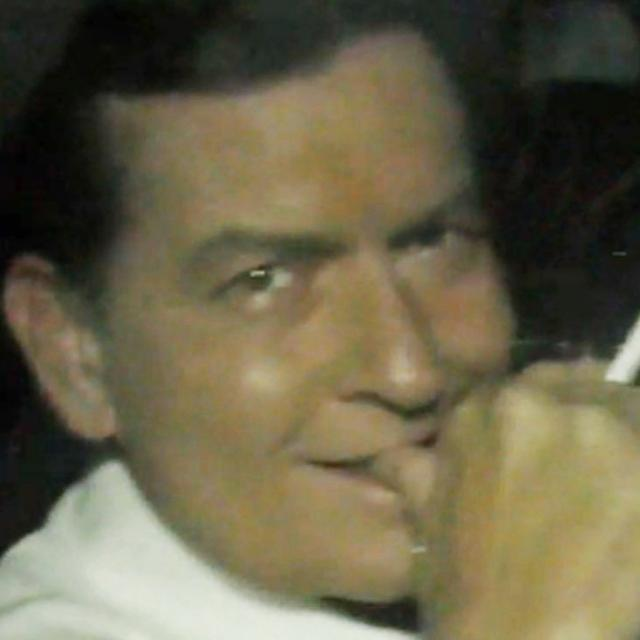Normal: (101, 30, 513, 602)
